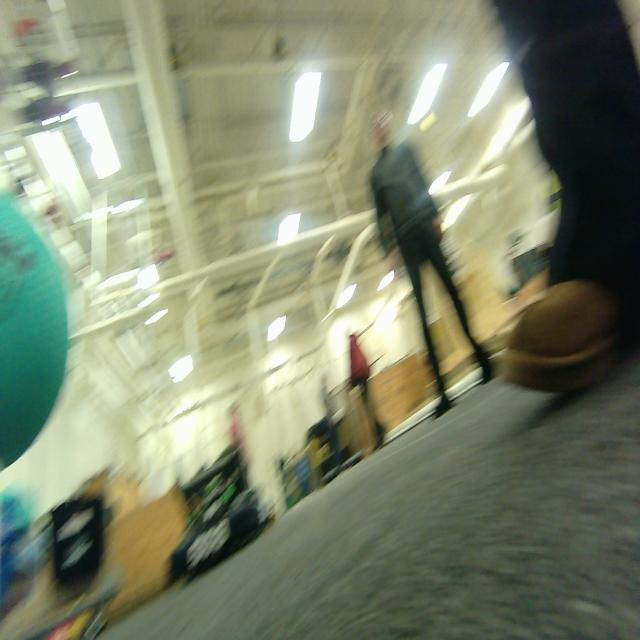algae: (0, 187, 74, 488)
